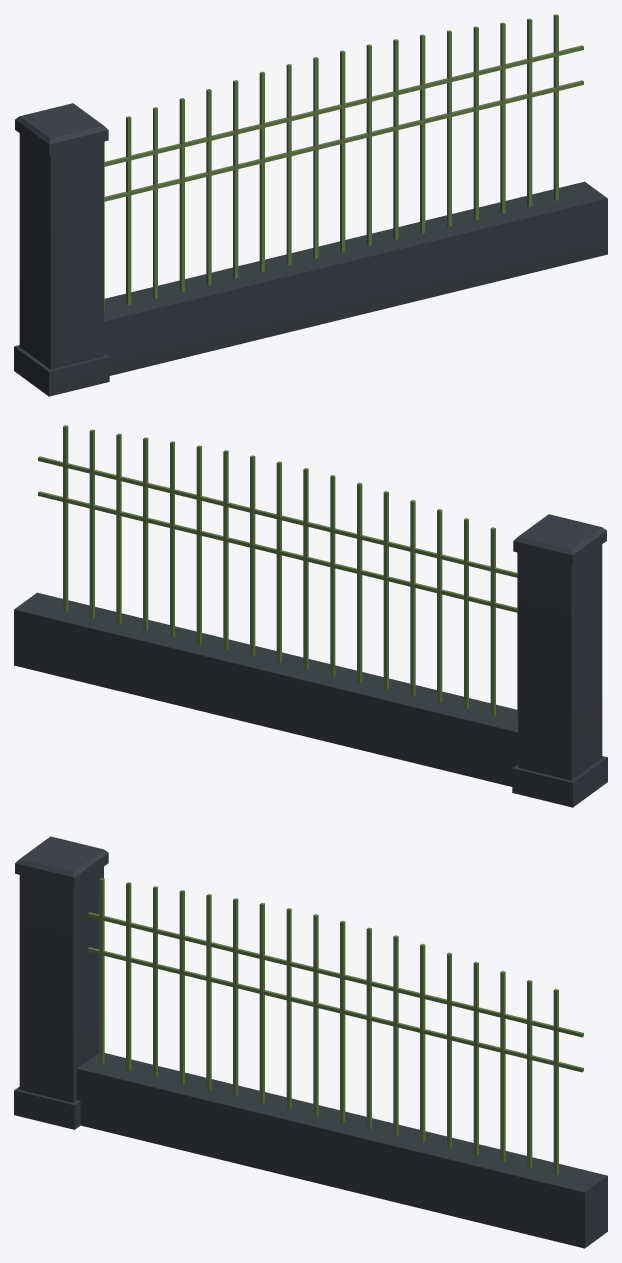
The model's file is Fence_03.fbx.
3 renders of one model, top to bottom at view 1: azimuth 30°, elevation 25°; view 2: azimuth 150°, elevation 25°; view 3: azimuth 330°, elevation 25°, orthographic.
Parts seen in each view (by area): view 1: Fence_03; view 2: Fence_03; view 3: Fence_03.
Part boxes in pixels (bbox=[...]): Fence_03: bbox=[14, 14, 607, 396]; Fence_03: bbox=[14, 425, 607, 807]; Fence_03: bbox=[14, 836, 607, 1248].
Size of the model in its own units: 4.23 by 1.83 by 0.4543.
